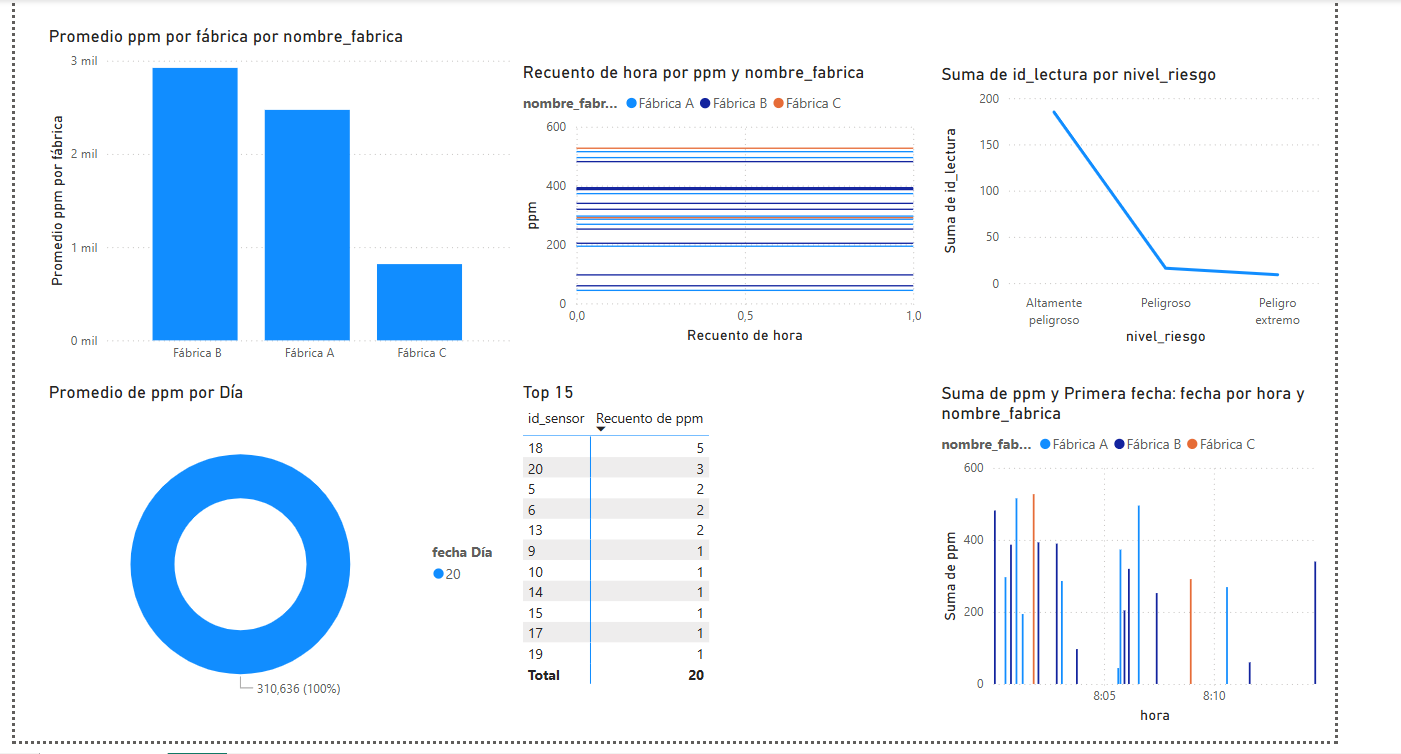

What the dashboard file says about the page in this screenshot:
{"tool":"powerbi","page":{"name":"Página 1","canvas":[1280,720],"ordinal":0},"visuals":[{"type":"clusteredColumnChart","fields":{"Y":["Sum(public lectura.ppm)"],"Category":["public fabrica.nombre_fabrica"]},"box":[27.1,25.5,459.5,335],"z":0},{"type":"barChart","fields":{"Series":["public fabrica.nombre_fabrica"],"Y":["Count(public lectura.hora)"],"Category":["public lectura.ppm"]},"box":[486.9,61.7,396.8,276.8],"z":1000},{"type":"donutChart","fields":{"Category":["public lectura.fecha.Variación.Jerarquía de fechas.Día"],"Y":["Avg(public lectura.ppm)"]},"box":[27,371,459,335],"z":2000},{"type":"pivotTable","title":"Top 15","fields":{"Rows":["public sensor.id_sensor"],"Values":["CountNonNull(public lectura.ppm)"]},"box":[486.9,371.8,396.8,335.2],"z":3000},{"type":"lineChart","fields":{"Category":["public lectura.nivel_riesgo"],"Y":["Sum(public lectura.id_lectura)"]},"box":[894,62,386,277],"z":4000},{"type":"columnChart","fields":{"Category":["public lectura.hora"],"Y":["Sum(public lectura.ppm)"],"Series":["public fabrica.nombre_fabrica"]},"box":[894,372,386,335],"z":5000}]}

Visuals, with their boxes on the page's 1280x720 design canvas (x1, y1, x2, y2). These are canvas units, not pixel positions in the 1401x754 screenshot, which may show the page scaled, cropped or inside an application window:
clusteredColumnChart - Sum(public lectura.ppm) x public fabrica.nombre_fabrica: 27 26 487 360
barChart - public fabrica.nombre_fabrica x Count(public lectura.hora): 487 62 884 338
donutChart - public lectura.fecha.Variación.Jerarquía de fechas.Día x Avg(public lectura.ppm): 27 371 486 706
"Top 15" pivotTable: 487 372 884 707
lineChart - public lectura.nivel_riesgo x Sum(public lectura.id_lectura): 894 62 1280 339
columnChart - public lectura.hora x Sum(public lectura.ppm): 894 372 1280 707
